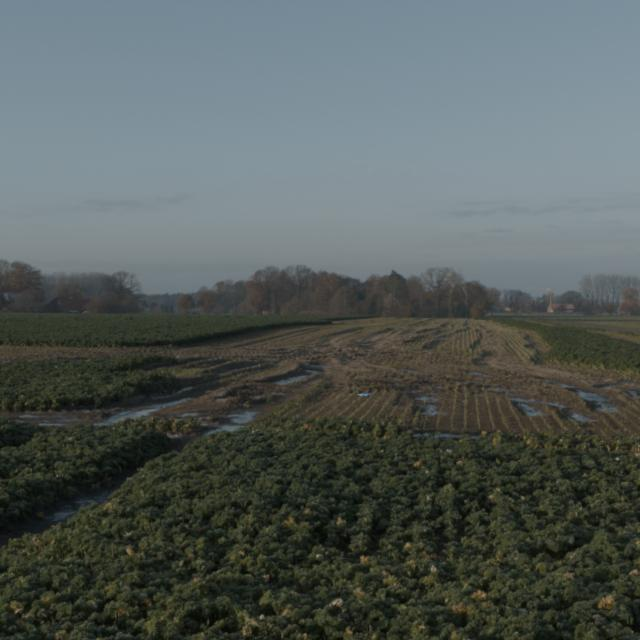Airaplan: (358, 393, 373, 396)
